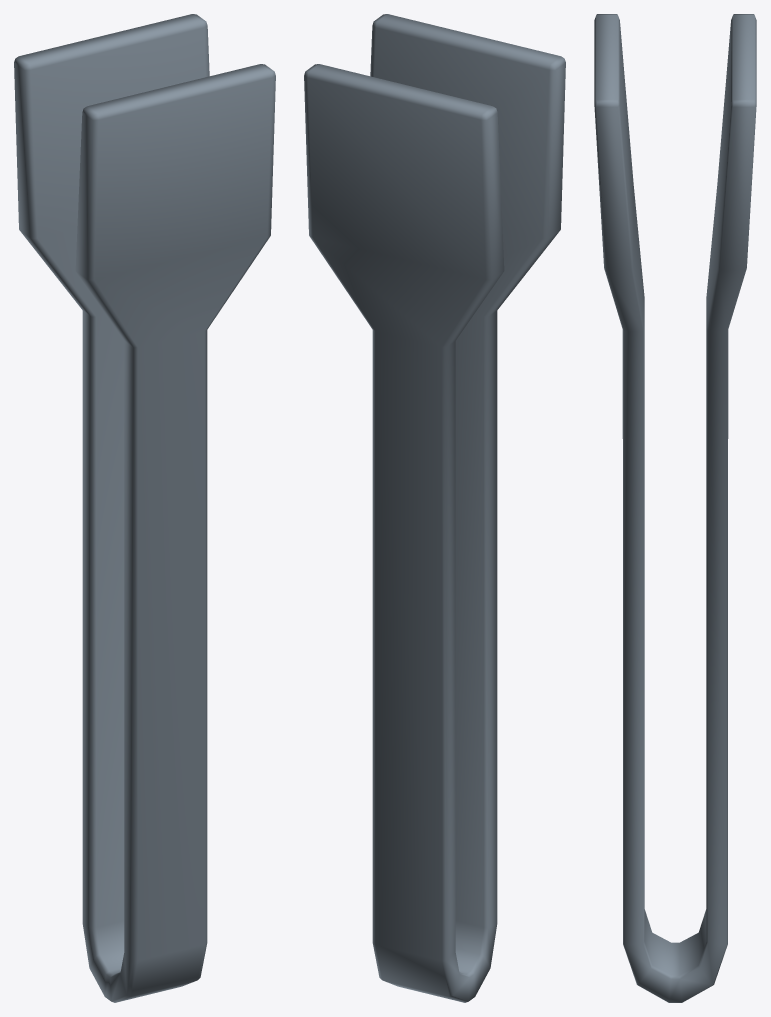
Rendered from Tongs-1.fbx.
3 renders of one model, left to right at view 1: azimuth 30°, elevation 25°; view 2: azimuth 150°, elevation 25°; view 3: azimuth 270°, elevation 25°, orthographic.
Parts seen in each view (by area): view 1: Tongs-1; view 2: Tongs-1; view 3: Tongs-1.
Part boxes in pixels (x1,y1,x2,y2): Tongs-1: (14,14,275,1002); Tongs-1: (304,14,565,1002); Tongs-1: (594,14,756,1002).
Bounding box in the file's own units: 0.0437 × 0.2118 × 0.0335.
